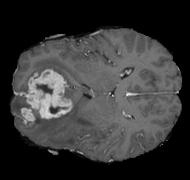Edema: (13, 57, 94, 147)
EnhancingTumors: (18, 69, 76, 127)
Necrosis: (18, 68, 77, 125)
